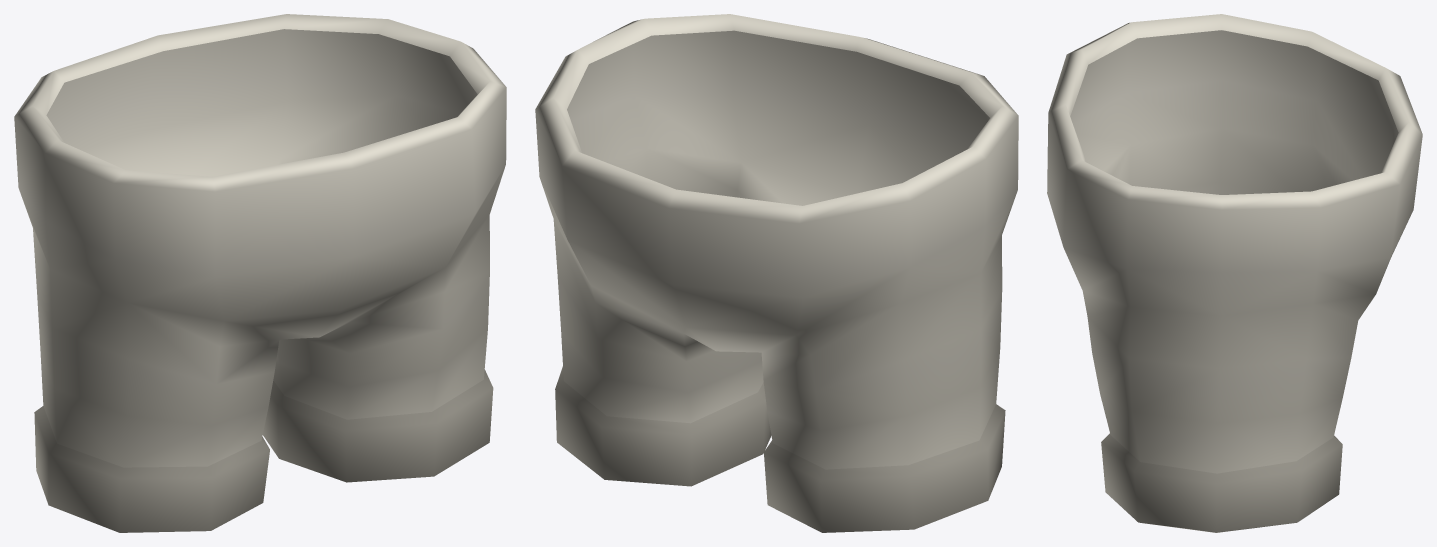
The model's file is Bottom_3.fbx.
3 views of the same model, side by side, from view 1: azimuth 30°, elevation 25°; view 2: azimuth 150°, elevation 25°; view 3: azimuth 270°, elevation 25° (orthographic). The views are drawn at different scales.
Parts seen in each view (by area): view 1: Bottom_3; view 2: Bottom_3; view 3: Bottom_3.
Boxes of the visible parts, box(x1,y1,x2,y2) form: Bottom_3: box(14, 14, 506, 532); Bottom_3: box(535, 14, 1018, 532); Bottom_3: box(1047, 14, 1422, 532).
Size of the model in its own units: 37.99 by 32.12 by 31.34.
